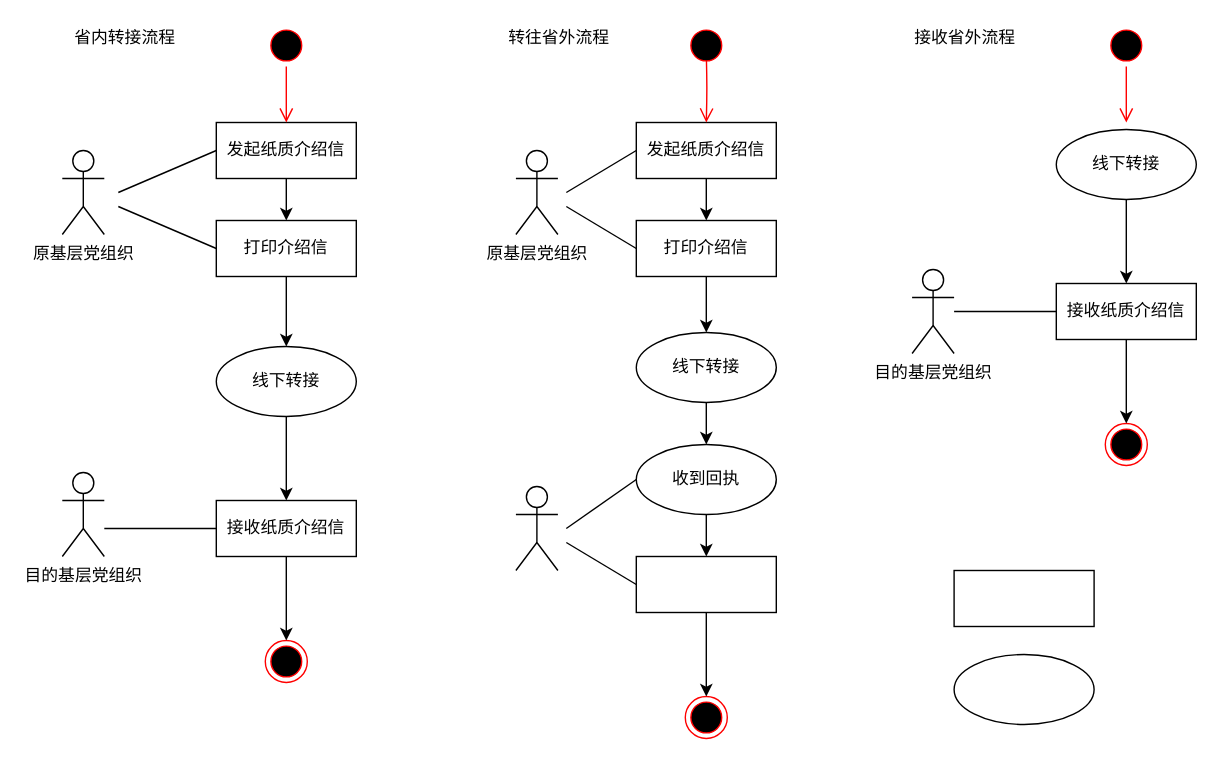
Image size: 1221x763. Some labels were removed from this diagram. Here are the shapes that lost their labels. From the top down, the centre of each, then its label:
At point (536, 527): "原基层党委".
At point (705, 583): "录入回执信息".
At point (1023, 597): "线上操作".
At point (1023, 688): "线下操作".
